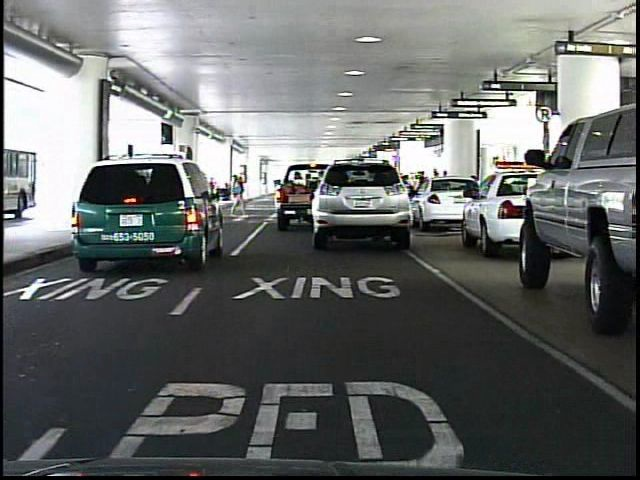person: (227, 168, 251, 222)
